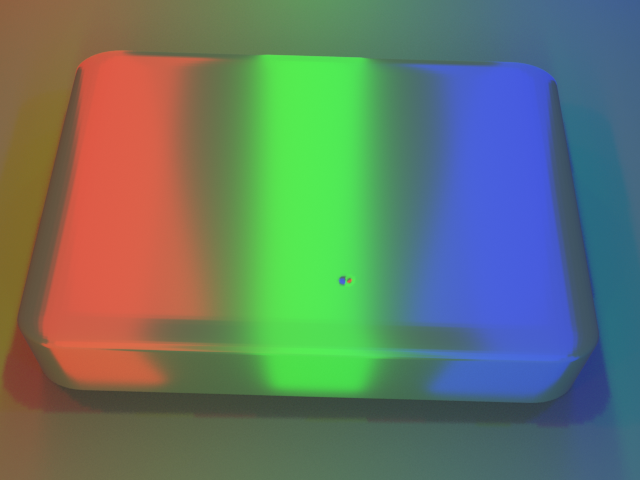dent: (329, 267, 366, 300)
